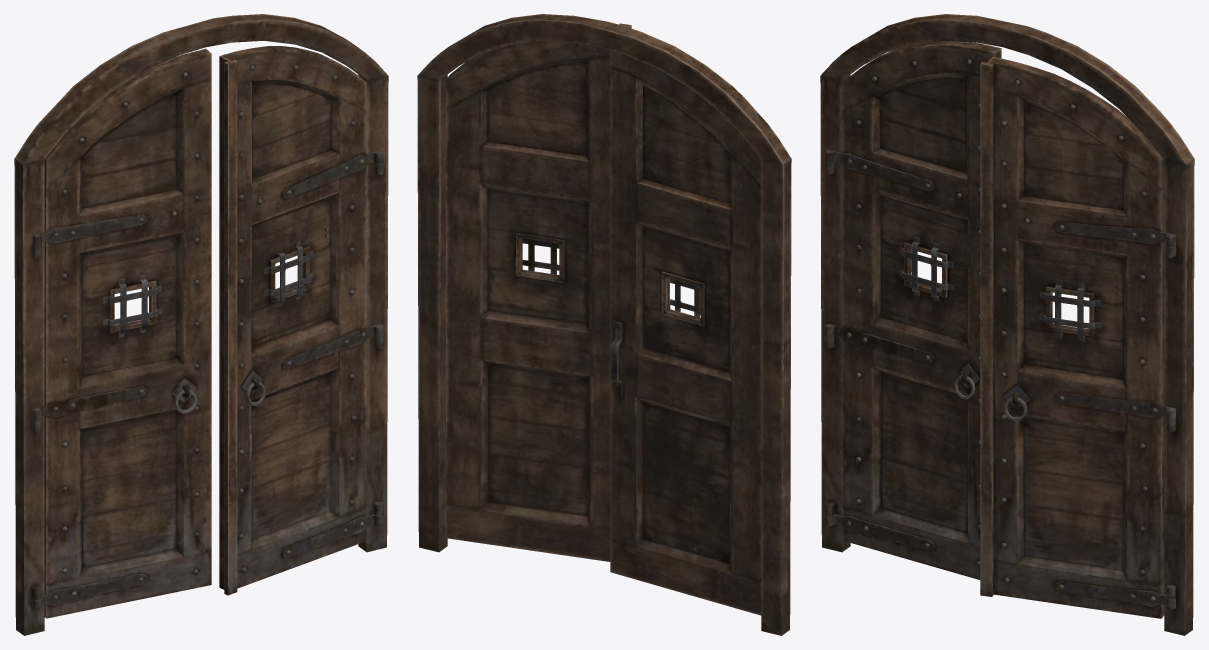
File: large_castle_door.glb
3 renders of one model, left to right at view 1: azimuth 30°, elevation 25°; view 2: azimuth 150°, elevation 25°; view 3: azimuth 330°, elevation 25°, orthographic.
Parts seen in each view (by area): view 1: large_castle_door_left, large_castle_door_right, large_castle_door_frame; view 2: large_castle_door_right, large_castle_door_left, large_castle_door_frame; view 3: large_castle_door_right, large_castle_door_left, large_castle_door_frame.
Boxes of the visible parts, left/top/right/bottom form: large_castle_door_left: left=32, top=48, right=211, bottom=618; large_castle_door_right: left=219, top=46, right=383, bottom=595; large_castle_door_frame: left=14, top=14, right=388, bottom=635; large_castle_door_right: left=446, top=23, right=631, bottom=561; large_castle_door_left: left=610, top=50, right=761, bottom=615; large_castle_door_frame: left=417, top=14, right=791, bottom=635; large_castle_door_right: left=980, top=57, right=1175, bottom=618; large_castle_door_left: left=824, top=41, right=1001, bottom=579; large_castle_door_frame: left=820, top=14, right=1194, bottom=635.
Bounding box in the file's own units: 2.01 × 2.96 × 0.2963.
Materials: 1 (1 with a texture image).
